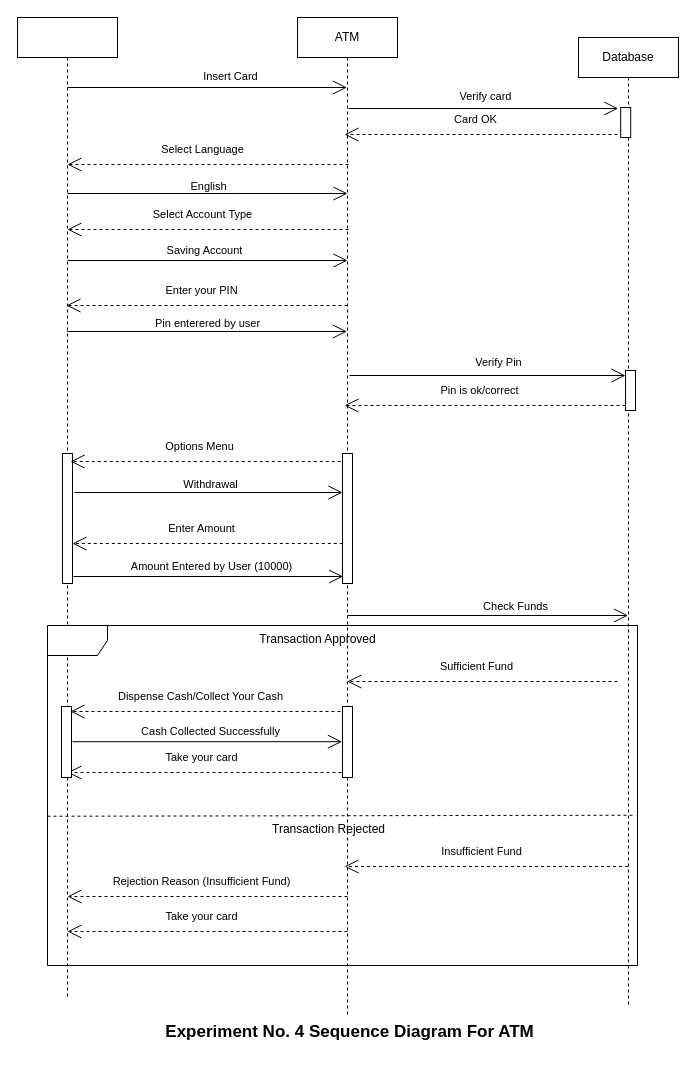
Some shapes in this 696 by 1065 pixel diagram are drawn without their labels. Here are the shapes that lost their labels. From the top down, the box of each, then its label:
(16, 16, 118, 998): USER
(46, 624, 638, 966): alt
